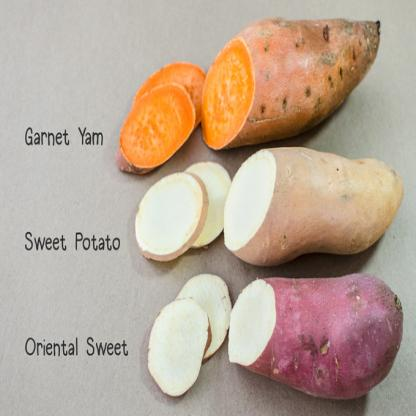---: (200, 9, 387, 152), (224, 269, 407, 400), (220, 142, 400, 270), (110, 83, 196, 182), (140, 285, 210, 403), (132, 168, 212, 270)
